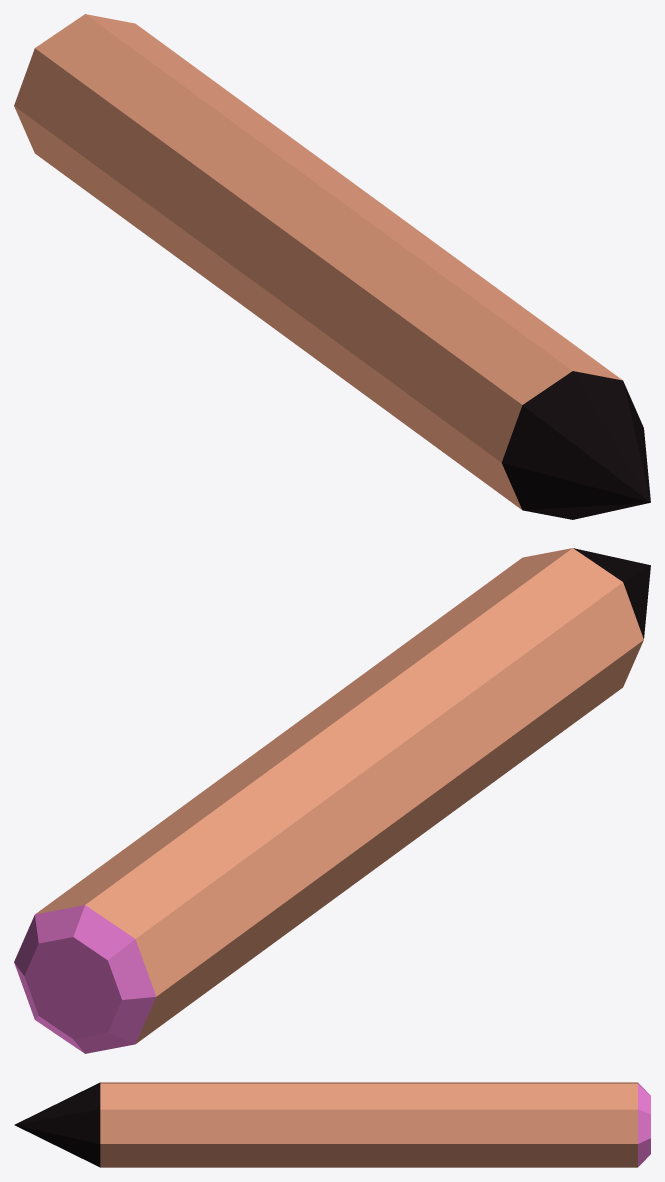
The model's file is Pencil.fbx.
3 renders of one model, top to bottom at view 1: azimuth 30°, elevation 25°; view 2: azimuth 150°, elevation 25°; view 3: azimuth 270°, elevation 25°, orthographic. The views are drawn at different scales.
Parts seen in each view (by area): view 1: Pencil; view 2: Pencil; view 3: Pencil.
Part boxes in pixels (<box>): Pencil: <box>14,14,650,519</box>; Pencil: <box>14,548,650,1053</box>; Pencil: <box>14,1082,650,1167</box>.
Bounding box in the file's own units: 200 × 200 × 1406.
